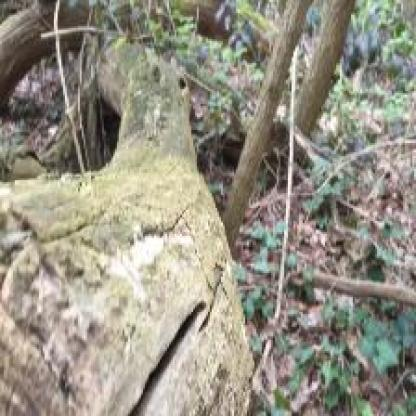other: (98, 214, 192, 300)
